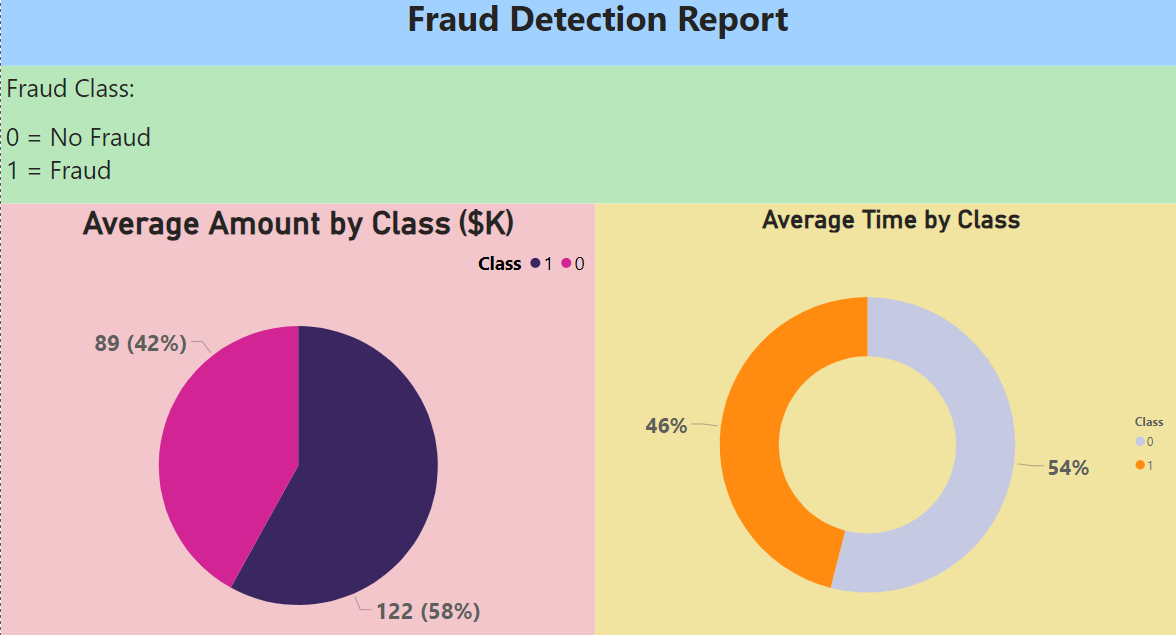

Layout of this report page (visuals, bound fields, positions):
{"tool":"powerbi","page":{"name":"Fraud Detection Report","canvas":[1280,720],"ordinal":0},"visuals":[{"type":"pieChart","title":"Average Amount by Class  ($K)","fields":{"Category":["creditcard.Class"],"Y":["Avg(creditcard.Amount)"]},"box":[0,231.4,640.7,488.6],"z":0},{"type":"donutChart","title":"Average Time by Class","fields":{"Category":["creditcard.Class"],"Y":["Avg(creditcard.Time)"]},"box":[640.7,231.4,639.1,488.6],"z":1000},{"type":"textbox","box":[0,82.5,1279.8,148.9],"z":2000},{"type":"textbox","box":[0,0,1279.8,82.5],"z":3000}]}

Visuals, with their boxes on the page's 1280x720 design canvas (x1, y1, x2, y2). These are canvas units, not pixel positions in the 1176x635 screenshot, which may show the page scaled, cropped or inside an application window:
"Average Amount by Class  ($K)" pieChart: pyautogui.locateOnScreen(0, 231, 641, 720)
"Average Time by Class" donutChart: pyautogui.locateOnScreen(641, 231, 1280, 720)
textbox: pyautogui.locateOnScreen(0, 82, 1280, 231)
textbox: pyautogui.locateOnScreen(0, 0, 1280, 82)
